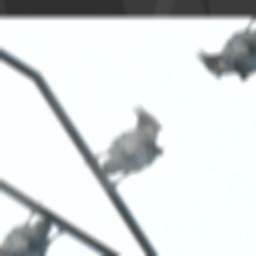Crow: (74, 100, 180, 197)
